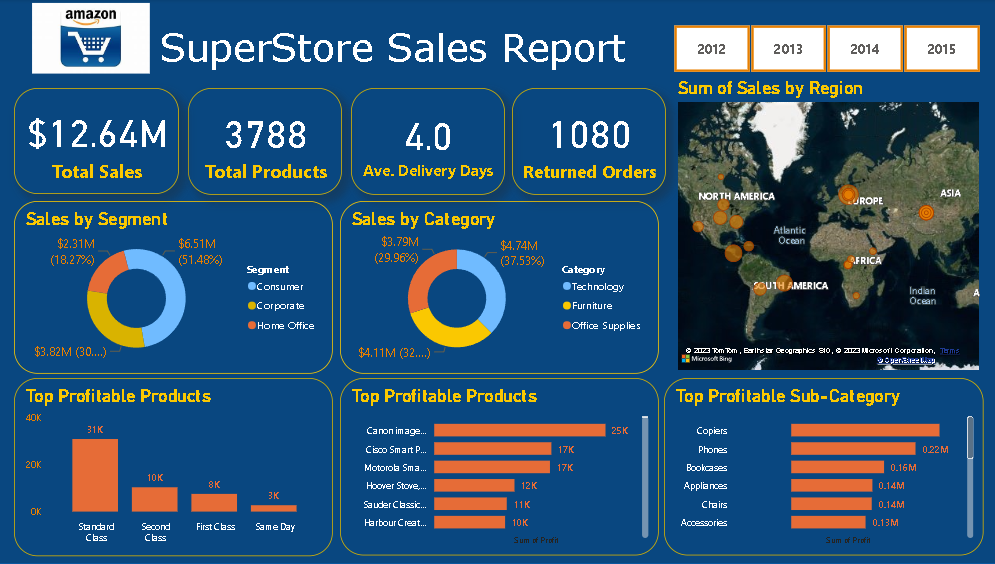

The page's visual inventory and layout, read from the dashboard file:
{"tool":"powerbi","page":{"name":"Page 1","canvas":[1280,720],"ordinal":0},"visuals":[{"type":"shape","box":[0,0,1280,720],"z":0},{"type":"card","fields":{"Values":["Orders.Total Products"]},"box":[248.6,112.9,195.7,135.7],"z":1000},{"type":"image","box":[26.7,0,195,100],"z":2000},{"type":"card","fields":{"Values":["Sum(Orders.Sales)"]},"box":[26.7,113.3,210,135],"z":3000},{"type":"columnChart","title":"Top Profitable Products","fields":{"Category":["Orders.Ship Mode"],"Y":["CountNonNull(Orders.Customer ID)"]},"box":[27.1,482.9,405.7,227.1],"z":4000},{"type":"slicer","fields":{"Values":["Orders.year"]},"box":[841.4,27.1,438.6,72.9],"z":5000},{"type":"textbox","box":[207.1,27.1,650,72.9],"z":6000},{"type":"barChart","title":"Top Profitable Sub-Category","fields":{"Category":["Orders.Sub-Category"],"Y":["Sum(Orders.Profit)"]},"box":[854.3,482.9,407.1,225.7],"z":7000},{"type":"barChart","title":"Top Profitable Products","fields":{"Category":["Orders.Product Name"],"Y":["Sum(Orders.Profit)"]},"box":[441.4,482.9,405.7,225.7],"z":8000},{"type":"card","fields":{"Values":["Avg(Orders.Delivery Days)"]},"box":[455.7,112.9,195.7,135.7],"z":9000},{"type":"card","fields":{"Values":["CountNonNull(Returns.Column1)"]},"box":[661.4,112.9,195.7,135.7],"z":10000},{"type":"donutChart","title":"Sales by Segment","fields":{"Y":["Sum(Orders.Sales)"],"Category":["Orders.Segment"]},"box":[27.1,257.1,405.7,220],"z":11000},{"type":"donutChart","title":"Sales by Category","fields":{"Y":["Sum(Orders.Sales)"],"Category":["Orders.Category"]},"box":[441.4,257.1,405.7,220],"z":12000},{"type":"map","fields":{"Category":["Orders.Region"],"Size":["Sum(Orders.Sales)"]},"box":[867.1,100,394.3,377.1],"z":13000}]}

Visuals, with their boxes in screenshot pixels (x1, y1, x2, y2), scaled from the page's 1280x720 canvas onto the 995x564 screenshot:
shape: left=0, top=0, right=994, bottom=563
card - Orders.Total Products: left=193, top=88, right=345, bottom=195
image: left=21, top=0, right=172, bottom=78
card - Sum(Orders.Sales): left=21, top=89, right=184, bottom=195
"Top Profitable Products" columnChart: left=21, top=378, right=336, bottom=556
slicer - Orders.year: left=654, top=21, right=994, bottom=78
textbox: left=161, top=21, right=666, bottom=78
"Top Profitable Sub-Category" barChart: left=664, top=378, right=981, bottom=555
"Top Profitable Products" barChart: left=343, top=378, right=658, bottom=555
card - Avg(Orders.Delivery Days): left=354, top=88, right=506, bottom=195
card - CountNonNull(Returns.Column1): left=514, top=88, right=666, bottom=195
"Sales by Segment" donutChart: left=21, top=201, right=336, bottom=374
"Sales by Category" donutChart: left=343, top=201, right=658, bottom=374
map - Orders.Region x Sum(Orders.Sales): left=674, top=78, right=981, bottom=374
